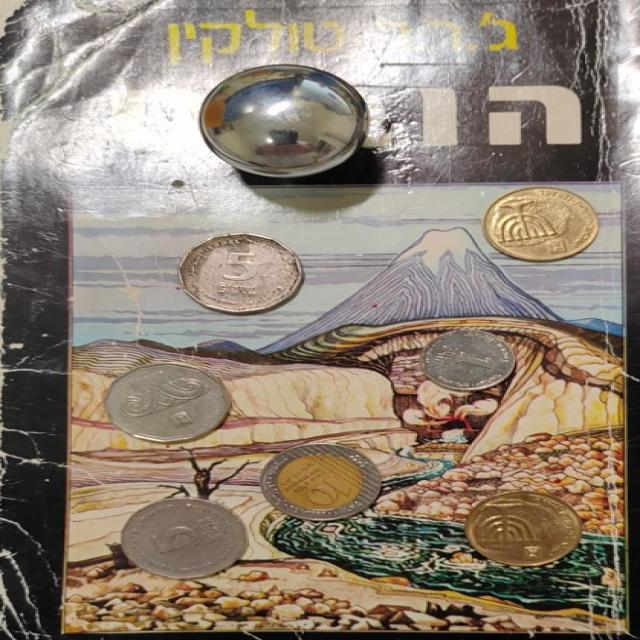1-shekel: (418, 327, 516, 387)
10-shekel: (256, 443, 396, 525)
5-shekel: (112, 491, 264, 585), (99, 358, 240, 449), (176, 236, 307, 320)
